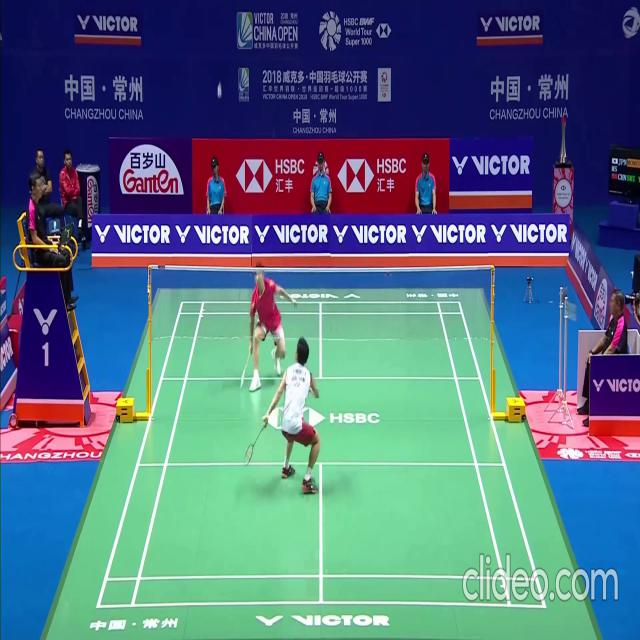Shuttlecock: (217, 85, 222, 92)
